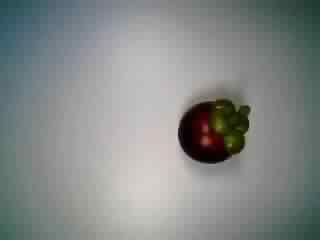mangosteen: (174, 85, 254, 171)
